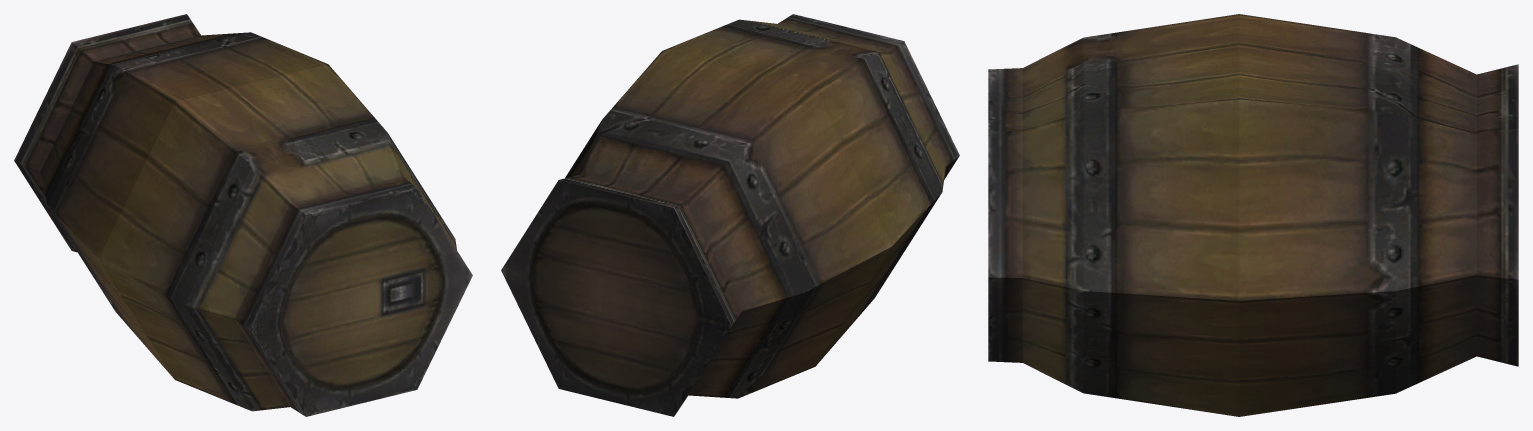
Rendered from mojianmutong02.obj.
The picture shows the model from 3 angles, left to right: view 1: azimuth 30°, elevation 25°; view 2: azimuth 150°, elevation 25°; view 3: azimuth 270°, elevation 25°; orthographic projection. The views are drawn at different scales.
Parts seen in each view (by area): view 1: mojianmutong02; view 2: mojianmutong02; view 3: mojianmutong02.
Boxes of the visible parts, bbox=[...] form: mojianmutong02: bbox=[14, 14, 472, 416]; mojianmutong02: bbox=[501, 14, 959, 416]; mojianmutong02: bbox=[988, 14, 1518, 416].
Bounding box in the file's own units: 47.93 × 41.51 × 62.84.
1 material, 1 textured.
